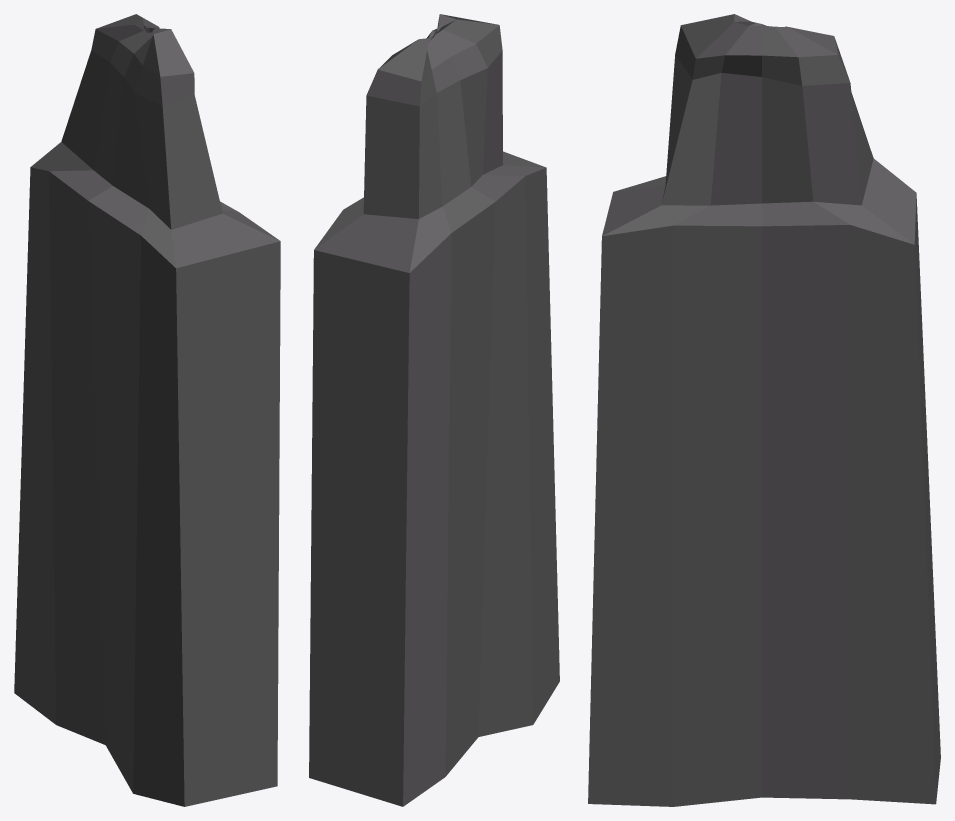
File: GraveStone2.fbx
The picture shows the model from 3 angles, left to right: view 1: azimuth 30°, elevation 25°; view 2: azimuth 150°, elevation 25°; view 3: azimuth 270°, elevation 25°; orthographic projection. The views are drawn at different scales.
Visible parts, largest first — view 1: GraveStone2; view 2: GraveStone2; view 3: GraveStone2.
Boxes of the visible parts, x1,y1,x2,y2 form: GraveStone2: (14,14,280,806); GraveStone2: (309,14,559,806); GraveStone2: (588,14,940,806).
Bounding box in the file's own units: 56.17 × 332 × 137.
